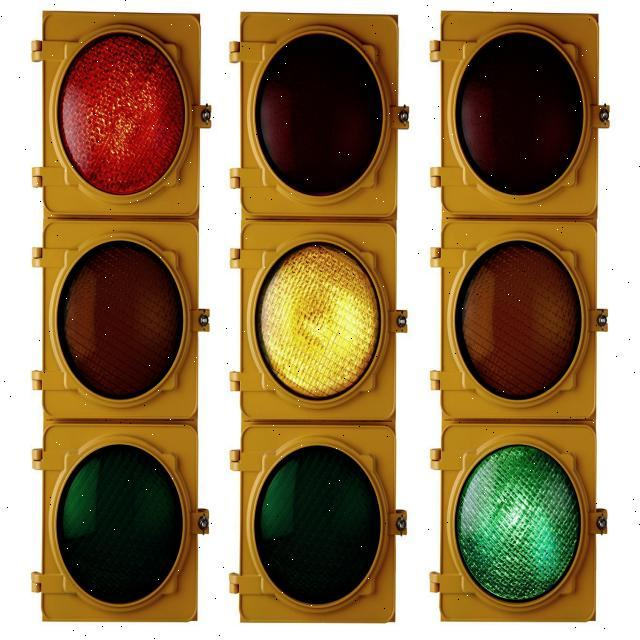yellow_light: (226, 249, 404, 417), (46, 232, 194, 419), (448, 230, 581, 423)
